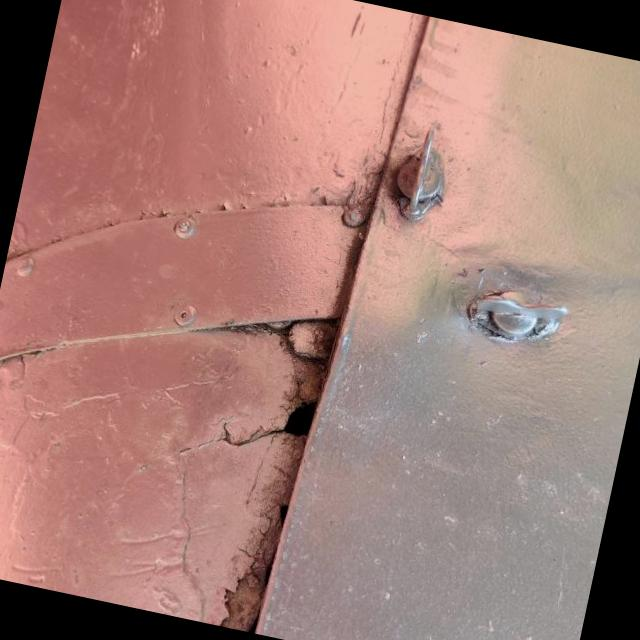crack: (163, 204, 274, 332)
